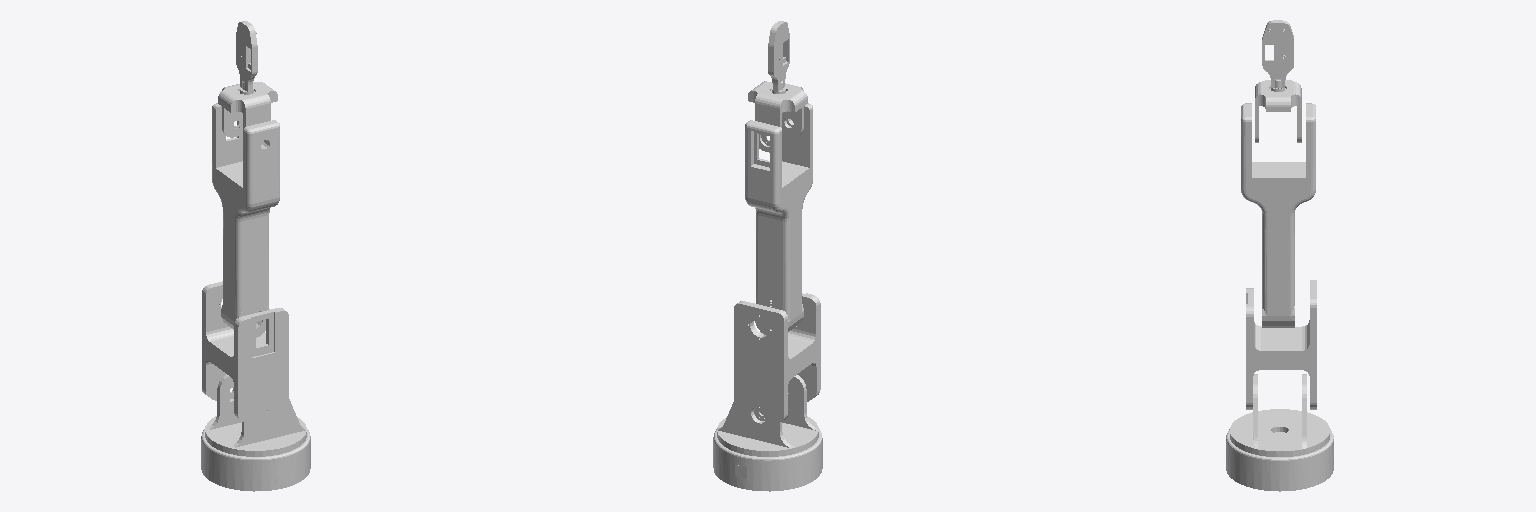
robot.urdf — urdf_assembly:
<?xml version="1.0" encoding="utf-8"?>
<!-- This URDF was automatically created by SolidWorks to URDF Exporter! Originally created by Stephen Brawner (brawner@gmail.com) 
     Commit Version: 1.6.0-4-g7f85cfe  Build Version: 1.6.7995.38578
     For more information, please see http://wiki.ros.org/sw_urdf_exporter -->
<robot
  name="urdf_assembly">
  <link
    name="Base">
    <inertial>
      <origin
        xyz="3.5559E-07 0.00041699 0.016915"
        rpy="0 0 0" />
      <mass
        value="0.35095" />
      <inertia
        ixx="0.00074665"
        ixy="1.3E-09"
        ixz="-1.1962E-09"
        iyy="0.00068306"
        iyz="-1.1975E-06"
        izz="0.0012851" />
    </inertial>
    <visual>
      <origin
        xyz="0 0 0"
        rpy="0 0 0" />
      <geometry>
        <mesh
          filename="package://urdf_assembly/meshes/Base.STL" />
      </geometry>
      <material
        name="">
        <color
          rgba="0.89412 0.89412 0.89412 1" />
      </material>
    </visual>
    <collision>
      <origin
        xyz="0 0 0"
        rpy="0 0 0" />
      <geometry>
        <mesh
          filename="package://urdf_assembly/meshes/Base.STL" />
      </geometry>
    </collision>
  </link>
  <link
    name="base_cap">
    <inertial>
      <origin
        xyz="-1.4199E-05 -0.00074351 0.0088623"
        rpy="0 0 0" />
      <mass
        value="0.20993" />
      <inertia
        ixx="0.00035825"
        ixy="-5.4417E-07"
        ixz="5.1889E-06"
        iyy="0.00031903"
        iyz="5.5017E-06"
        izz="0.00046949" />
    </inertial>
    <visual>
      <origin
        xyz="0 0 0"
        rpy="0 0 0" />
      <geometry>
        <mesh
          filename="package://urdf_assembly/meshes/base_cap.STL" />
      </geometry>
      <material
        name="">
        <color
          rgba="0.89412 0.89412 0.89412 1" />
      </material>
    </visual>
    <collision>
      <origin
        xyz="0 0 0"
        rpy="0 0 0" />
      <geometry>
        <mesh
          filename="package://urdf_assembly/meshes/base_cap.STL" />
      </geometry>
    </collision>
  </link>
  <joint
    name="base_cap_joint"
    type="revolute">
    <origin
      xyz="0 0 0.059"
      rpy="0 0 0" />
    <parent
      link="Base" />
    <child
      link="base_cap" />
    <axis
      xyz="0 0 1" />
    <limit
      lower="-3.14"
      upper="3.14"
      effort="0"
      velocity="0" />
  </joint>
  <link
    name="shoulder">
    <inertial>
      <origin
        xyz="1.53512482861107E-05 -0.0396558416692502 0.0703731085644241"
        rpy="0 0 0" />
      <mass
        value="0.463059515400219" />
      <inertia
        ixx="0.0012656991737272"
        ixy="-3.51935374018815E-07"
        ixz="-5.07145687244049E-07"
        iyy="0.00087998668642321"
        iyz="-5.53502098588181E-05"
        izz="0.000891797142036309" />
    </inertial>
    <visual>
      <origin
        xyz="0 0 0"
        rpy="0 0 0" />
      <geometry>
        <mesh
          filename="package://urdf_assembly/meshes/shoulder.STL" />
      </geometry>
      <material
        name="">
        <color
          rgba="0.894117647058823 0.894117647058823 0.894117647058823 1" />
      </material>
    </visual>
    <collision>
      <origin
        xyz="0 0 0"
        rpy="0 0 0" />
      <geometry>
        <mesh
          filename="package://urdf_assembly/meshes/shoulder.STL" />
      </geometry>
    </collision>
  </link>
  <joint
    name="shoulder_joint"
    type="revolute">
    <origin
      xyz="-0.015692 0.042555 0.04656"
      rpy="0 0 0" />
    <parent
      link="base_cap" />
    <child
      link="shoulder" />
    <axis
      xyz="0 1 0" />
    <limit
      lower="-1.57"
      upper="1.57"
      effort="0"
      velocity="0" />
  </joint>
  <link
    name="elbow">
    <inertial>
      <origin
        xyz="7.45629646914381E-09 -0.0169085412128415 0.135032105403826"
        rpy="0 0 0" />
      <mass
        value="0.793484761452286" />
      <inertia
        ixx="0.00605475001880524"
        ixy="-3.56690412382835E-09"
        ixz="4.91983282924275E-09"
        iyy="0.00574564039798139"
        iyz="0.000122366658659325"
        izz="0.000687302183020682" />
    </inertial>
    <visual>
      <origin
        xyz="0 0 0"
        rpy="0 0 0" />
      <geometry>
        <mesh
          filename="package://urdf_assembly/meshes/elbow.STL" />
      </geometry>
      <material
        name="">
        <color
          rgba="0.894117647058823 0.894117647058823 0.894117647058823 1" />
      </material>
    </visual>
    <collision>
      <origin
        xyz="0 0 0"
        rpy="0 0 0" />
      <geometry>
        <mesh
          filename="package://urdf_assembly/meshes/elbow.STL" />
      </geometry>
    </collision>
  </link>
  <joint
    name="elbow_joint"
    type="revolute">
    <origin
      xyz="-0.00094 -0.028422 0.13316"
      rpy="0 0 0" />
    <parent
      link="shoulder" />
    <child
      link="elbow" />
    <axis
      xyz="0 1 0" />
    <limit
      lower="-1.57"
      upper="1.57"
      effort="0"
      velocity="0" />
  </joint>
  <link
    name="wrist">
    <inertial>
      <origin
        xyz="0.000460986576376721 0.029104411841 0.0396570369804108"
        rpy="0 0 0" />
      <mass
        value="0.0826370075860569" />
      <inertia
        ixx="7.34750589393241E-05"
        ixy="-1.50697998437875E-08"
        ixz="-8.45036785406603E-07"
        iyy="5.92272757931247E-05"
        iyz="-1.2963981470035E-06"
        izz="6.42938761063495E-05" />
    </inertial>
    <visual>
      <origin
        xyz="0 0 0"
        rpy="0 0 0" />
      <geometry>
        <mesh
          filename="package://urdf_assembly/meshes/wrist.STL" />
      </geometry>
      <material
        name="">
        <color
          rgba="0.894117647058823 0.894117647058823 0.894117647058823 1" />
      </material>
    </visual>
    <collision>
      <origin
        xyz="0 0 0"
        rpy="0 0 0" />
      <geometry>
        <mesh
          filename="package://urdf_assembly/meshes/wrist.STL" />
      </geometry>
    </collision>
  </link>
  <joint
    name="wrist_joint"
    type="revolute">
    <origin
      xyz="0 -0.0461 0.27742"
      rpy="0 0 0" />
    <parent
      link="elbow" />
    <child
      link="wrist" />
    <axis
      xyz="0 1 0" />
    <limit
      lower="-1.57"
      upper="1.57"
      effort="0"
      velocity="0" />
  </joint>
  <link
    name="end_effector">
    <inertial>
      <origin
        xyz="9.34523522884145E-05 0.00142324534236538 0.0524507406696926"
        rpy="0 0 0" />
      <mass
        value="0.0304353131290648" />
      <inertia
        ixx="2.975555203426E-05"
        ixy="2.67236457205458E-08"
        ixz="-6.95711677506349E-09"
        iyy="2.64785305628422E-05"
        iyz="-1.03852791767716E-07"
        izz="3.76337236269015E-06" />
    </inertial>
    <visual>
      <origin
        xyz="0 0 0"
        rpy="0 0 0" />
      <geometry>
        <mesh
          filename="package://urdf_assembly/meshes/end_effector.STL" />
      </geometry>
      <material
        name="">
        <color
          rgba="0.894117647058823 0.894117647058823 0.894117647058823 1" />
      </material>
    </visual>
    <collision>
      <origin
        xyz="0 0 0"
        rpy="0 0 0" />
      <geometry>
        <mesh
          filename="package://urdf_assembly/meshes/end_effector.STL" />
      </geometry>
    </collision>
  </link>
  <joint
    name="end_effector_joint"
    type="revolute">
    <origin
      xyz="0.0006 0.0295 0.06"
      rpy="0 0 0" />
    <parent
      link="wrist" />
    <child
      link="end_effector" />
    <axis
      xyz="0 0 1" />
    <limit
      lower="-3.14"
      upper="3.14"
      effort="0"
      velocity="0" />
  </joint>
</robot>

--- What the picture shows (computed from the rendered views, not written in the file) ---
The picture shows the robot from 3 angles, left to right: view 1: azimuth 30°, elevation 25°; view 2: azimuth 150°, elevation 25°; view 3: azimuth 270°, elevation 25°; orthographic projection.
Model urdf_assembly with 6 links and 5 joints (5 revolute), rooted at Base, posed every joint at zero.
Links seen in each view (by area): view 1: elbow, shoulder, base_cap, Base, wrist, end_effector; view 2: elbow, shoulder, base_cap, Base, wrist, end_effector; view 3: elbow, base_cap, shoulder, Base, end_effector, wrist.
Link boxes in pixels (<box>): elbow: <box>212,103,279,337</box>; shoulder: <box>202,281,288,426</box>; base_cap: <box>205,374,306,456</box>; Base: <box>201,429,310,491</box>; wrist: <box>218,82,277,144</box>; end_effector: <box>236,21,257,94</box>; elbow: <box>745,103,812,334</box>; shoulder: <box>734,293,820,427</box>; base_cap: <box>717,375,818,456</box>; Base: <box>713,429,822,491</box>; wrist: <box>748,81,807,152</box>; end_effector: <box>768,21,789,93</box>; elbow: <box>1241,103,1315,327</box>; base_cap: <box>1230,374,1329,456</box>; shoulder: <box>1246,280,1316,409</box>; Base: <box>1226,429,1333,491</box>; end_effector: <box>1262,20,1293,91</box>; wrist: <box>1255,80,1301,142</box>.
Bounding box of the posed robot: 0.15 × 0.15 × 0.678 m (x, y, z).
6 mesh visuals loaded from 6 distinct referenced files (6 binary STL).
